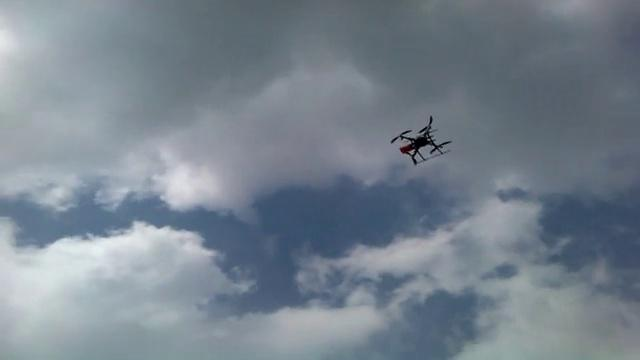drone: (389, 113, 454, 169)
